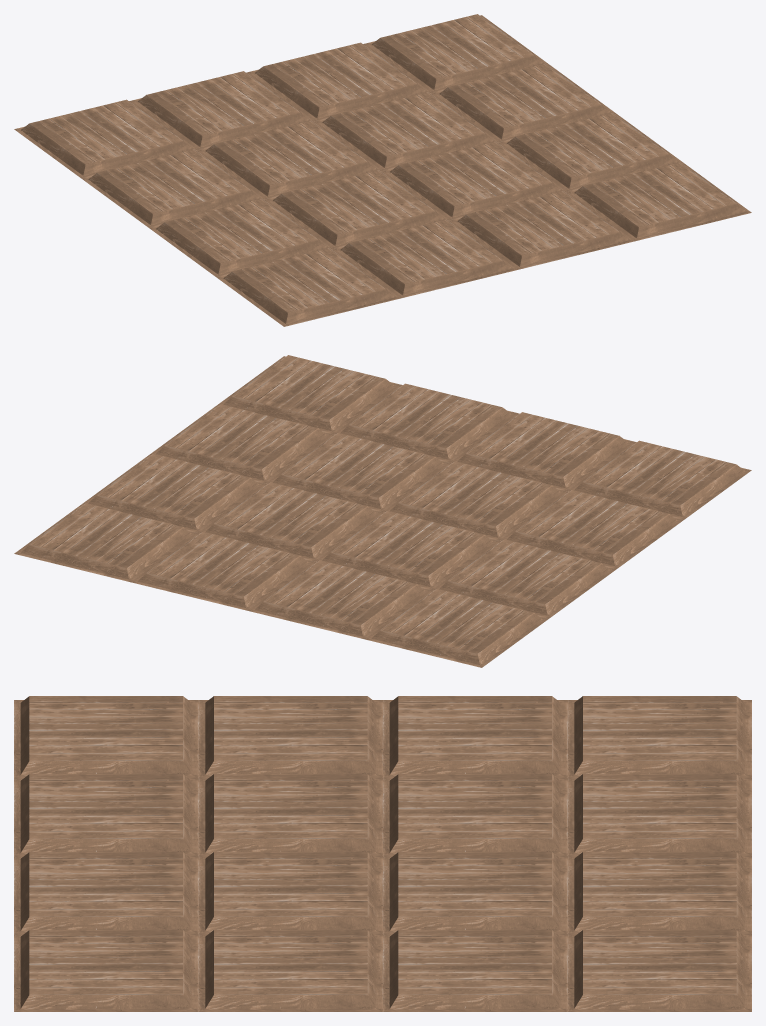
Rendered from Ceiling64B.fbx.
The picture shows the model from 3 angles, top to bottom: view 1: azimuth 30°, elevation 25°; view 2: azimuth 150°, elevation 25°; view 3: azimuth 270°, elevation 25°; orthographic projection. The views are drawn at different scales.
Visible parts, largest first — view 1: Ceiling64B; view 2: Ceiling64B; view 3: Ceiling64B.
Part boxes in pixels (x1,y1,x2,y2): Ceiling64B: [14, 14, 751, 326]; Ceiling64B: [14, 355, 751, 667]; Ceiling64B: [14, 696, 751, 1011].
Bounding box in the file's own units: 800 × 12.44 × 800.
